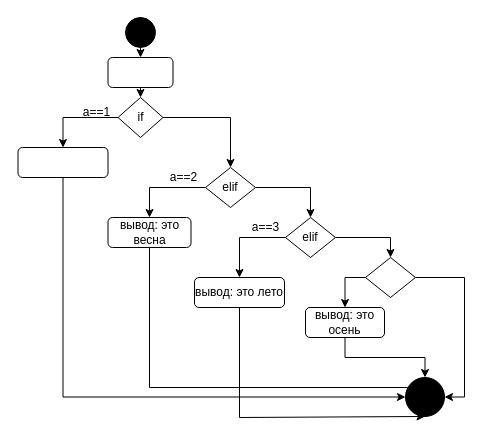
Some shapes in this 490 by 443 pixel diagram are drawn without their labels. The centre of each missing label's shape, as x and y in pixels:
else: pixel 390 277
ввод: a: pixel 140 72
вывод: это зима: pixel 62 162
